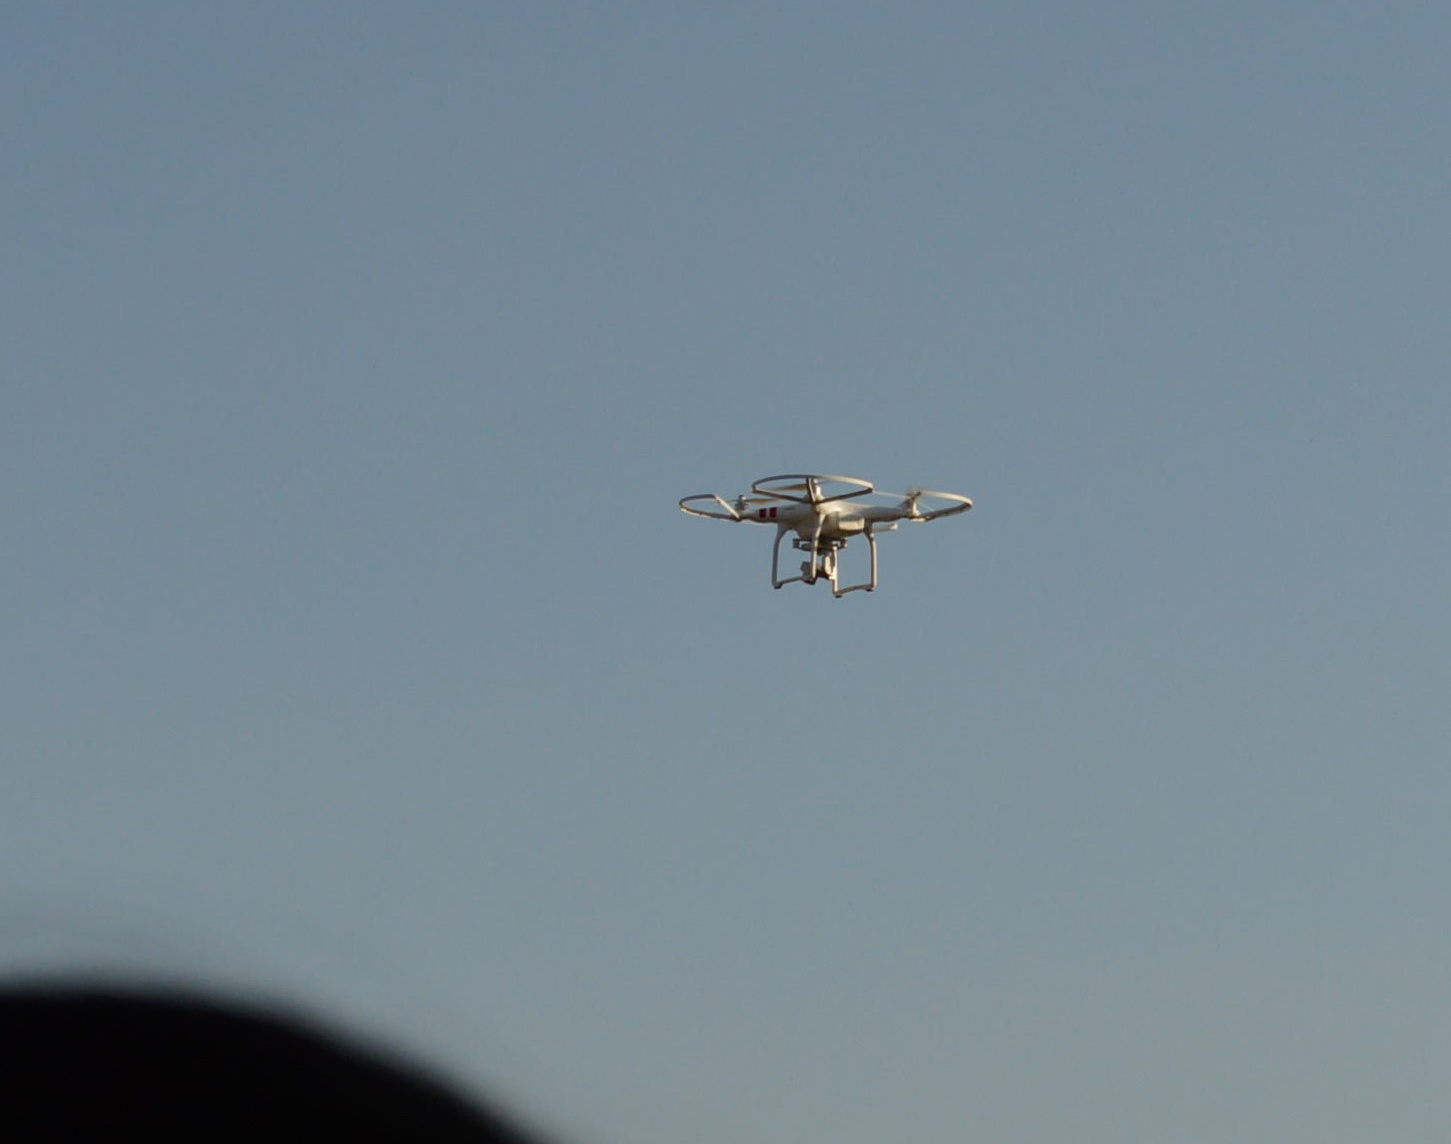DJI: (675, 472, 972, 603)
